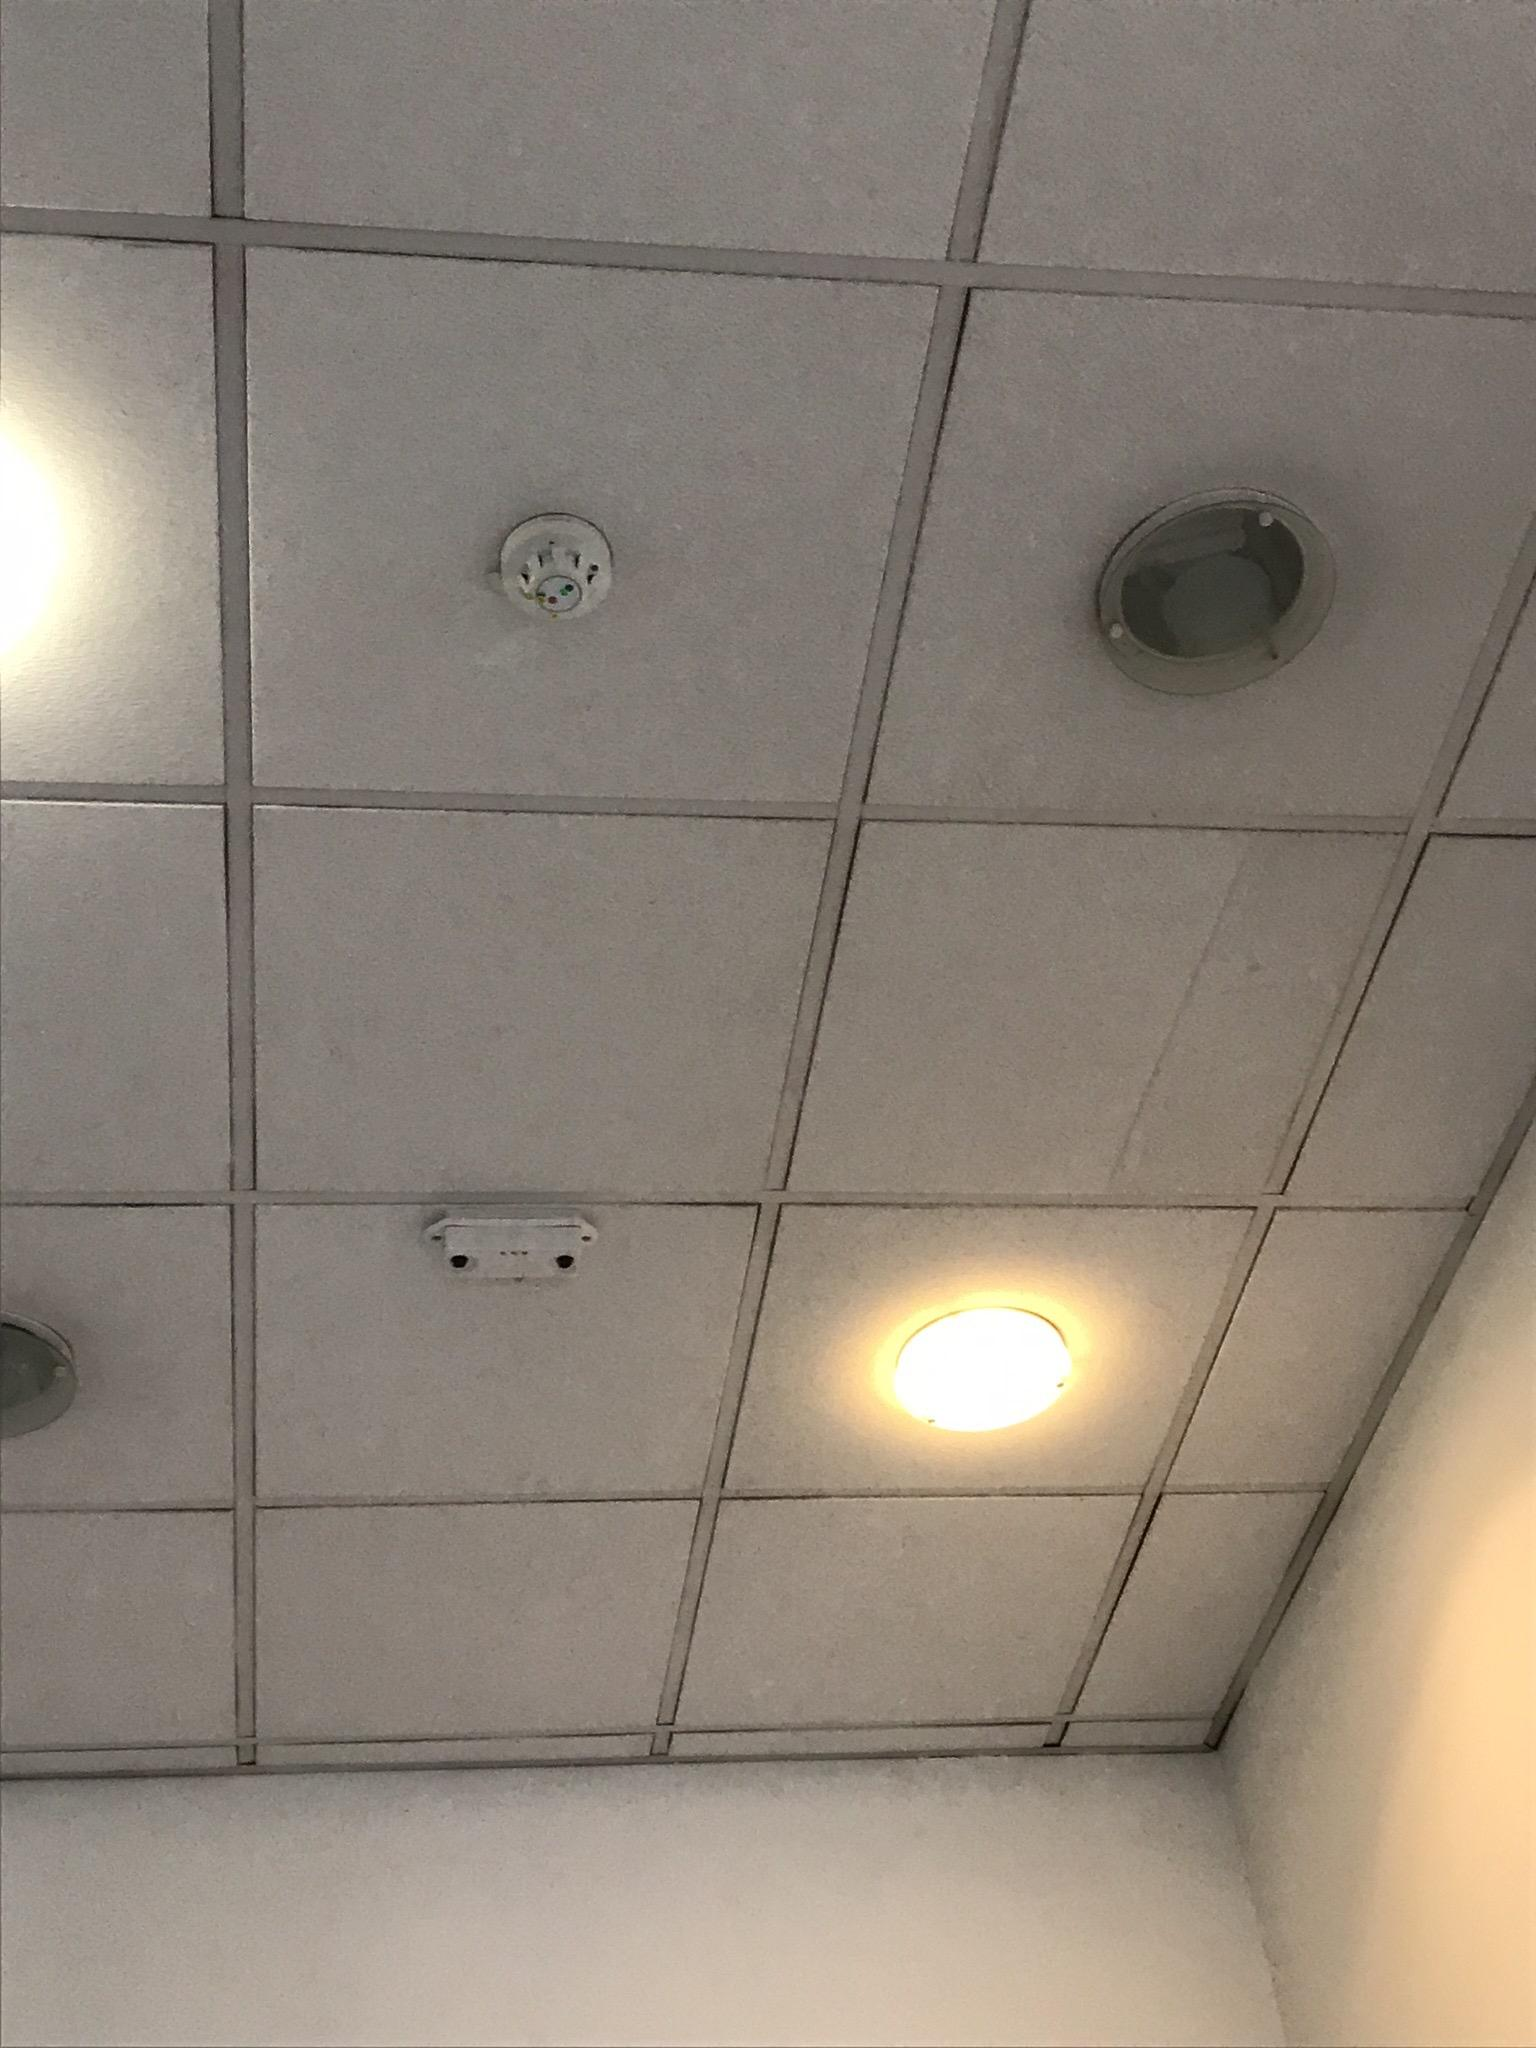detector: (497, 511, 615, 622)
